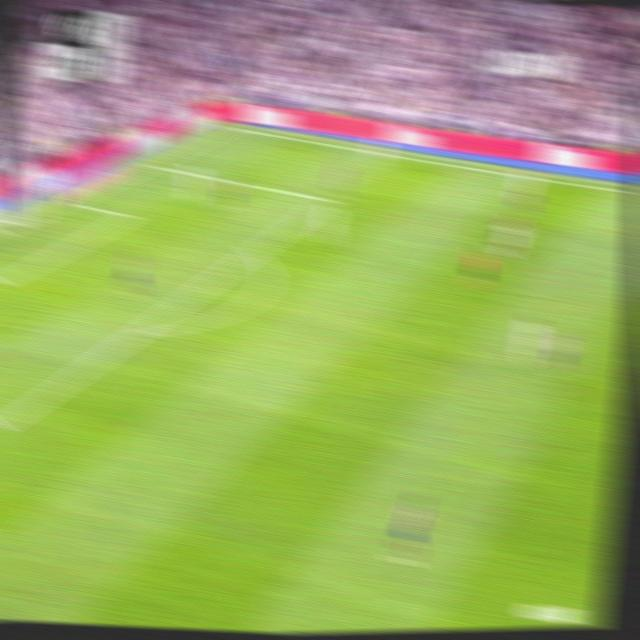bigarea_top_inner: (318, 192, 335, 208)
bigarea_top_outter: (142, 156, 159, 170)
bottom_arc_area_intersection: (128, 320, 150, 342)
corner: (218, 118, 240, 132)
smallarea_top_inner: (120, 209, 137, 222)
top_arc_area_intersection: (243, 240, 265, 261)
